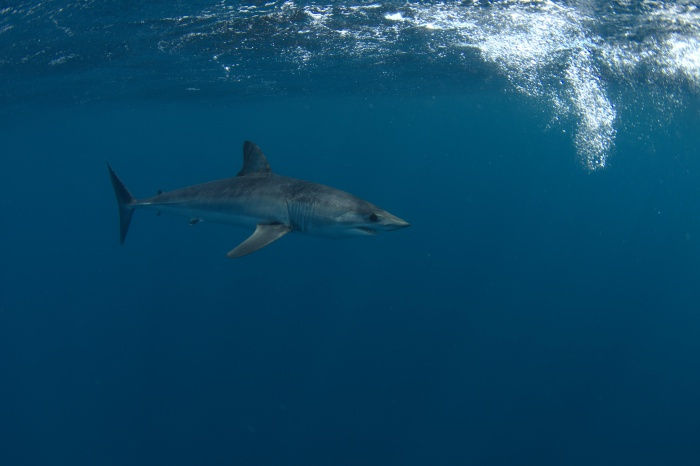Mako: (91, 134, 417, 272)
